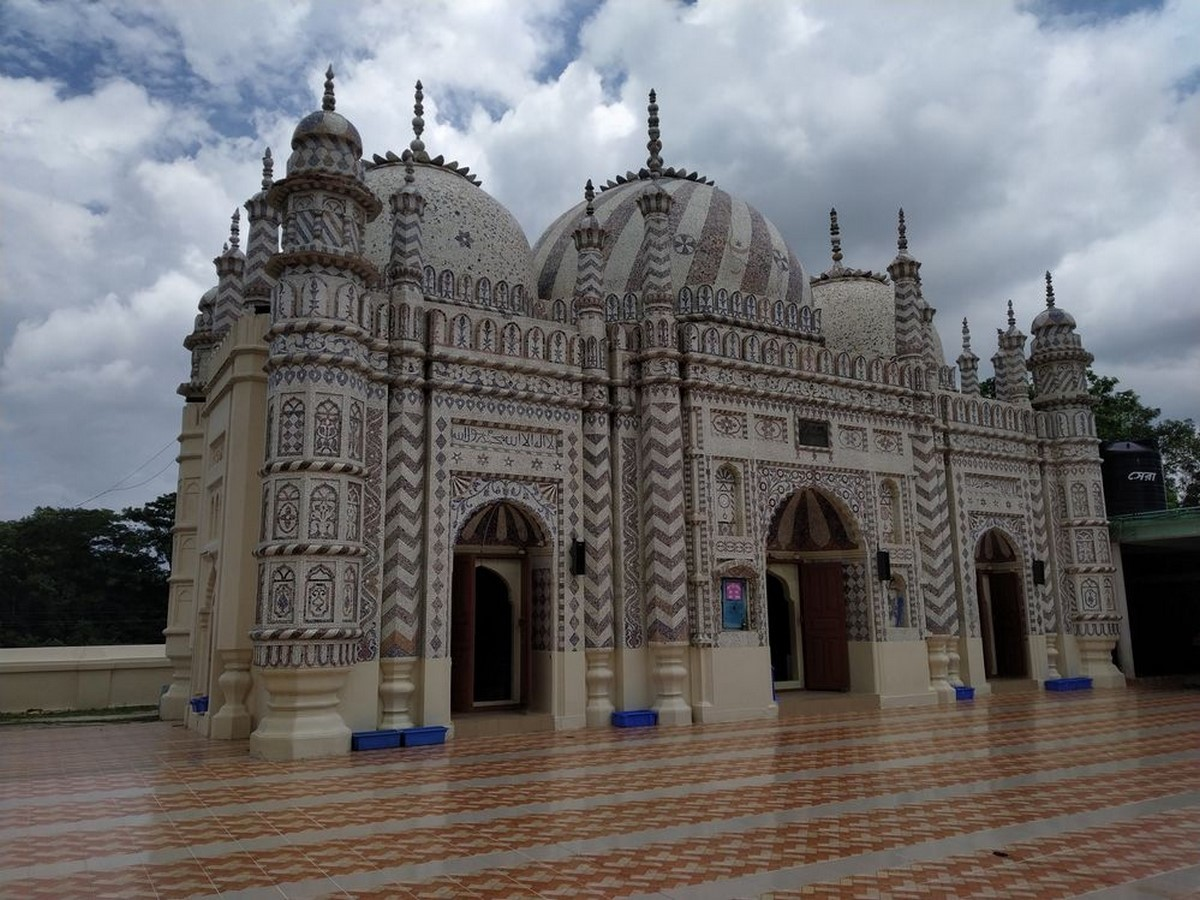Mosque: (157, 56, 1144, 738)
